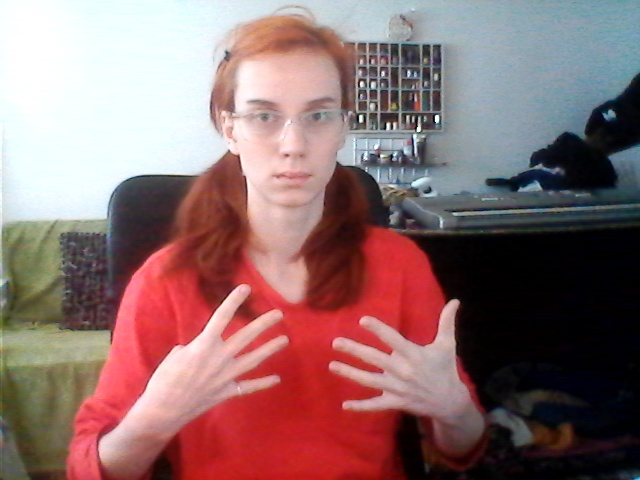devat: (151, 283, 466, 427)
